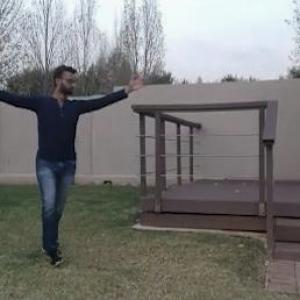takeoff: (0, 62, 151, 268)
